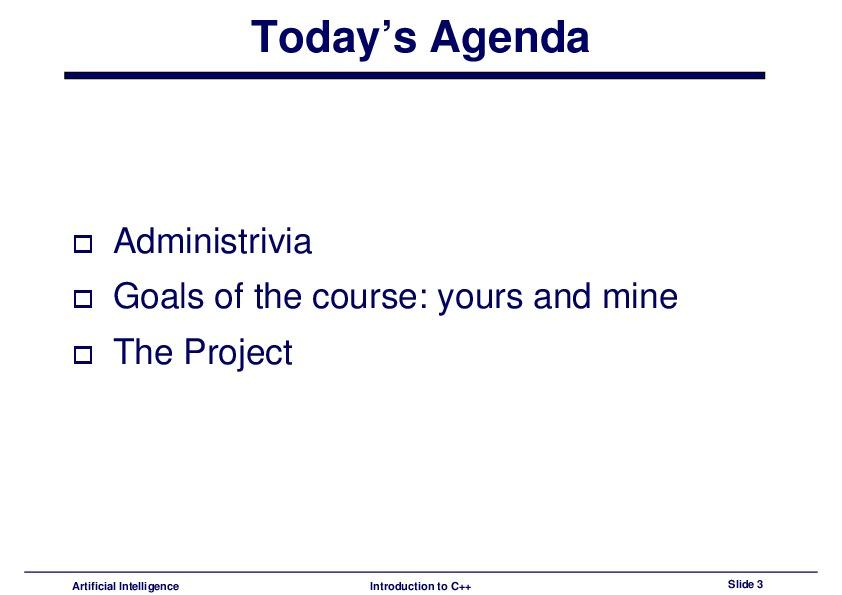subtitle: (109, 269, 692, 323), (65, 572, 828, 595), (99, 205, 342, 274), (112, 327, 312, 383)
title: (236, 10, 597, 65)
